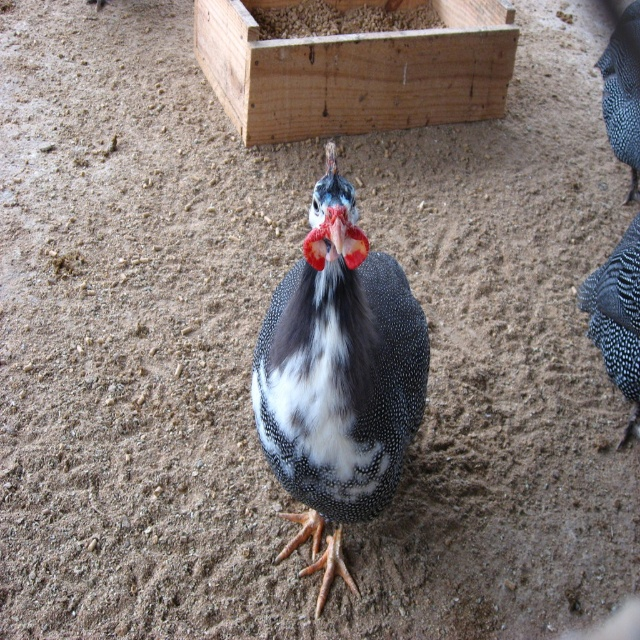Chicken: (251, 165, 439, 594)
